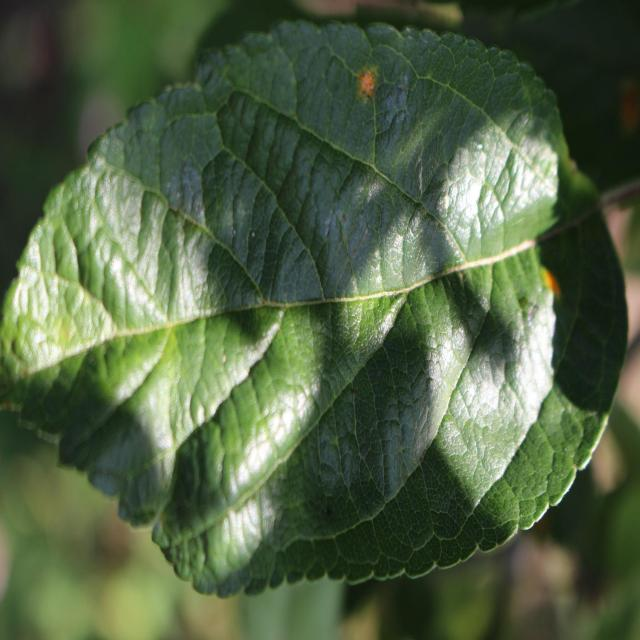Rust: (529, 240, 568, 322), (346, 50, 380, 105)
